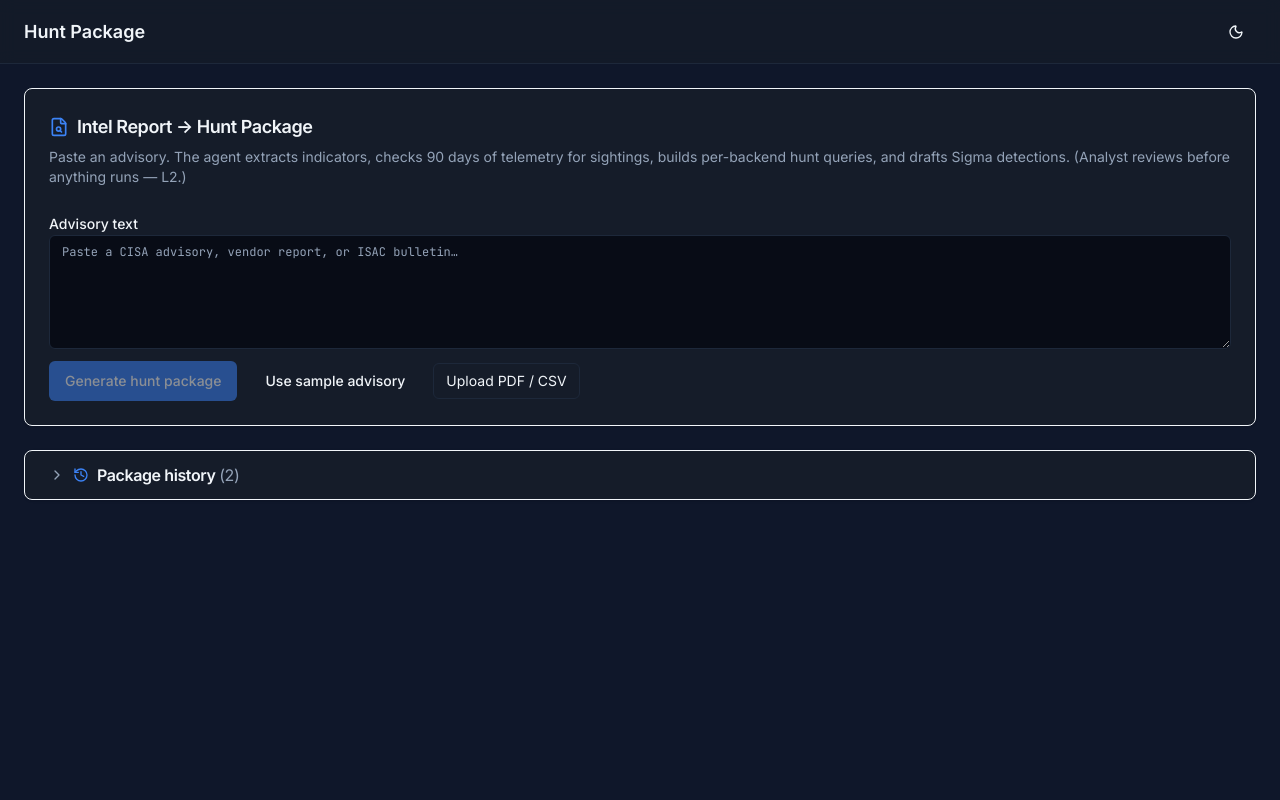
Test: HuntPackagePage promote to investigation › surfaces a promote failure without navigating
Click the button with test id "package-history-toggle" at (156, 475), box [49,463,1231,487]
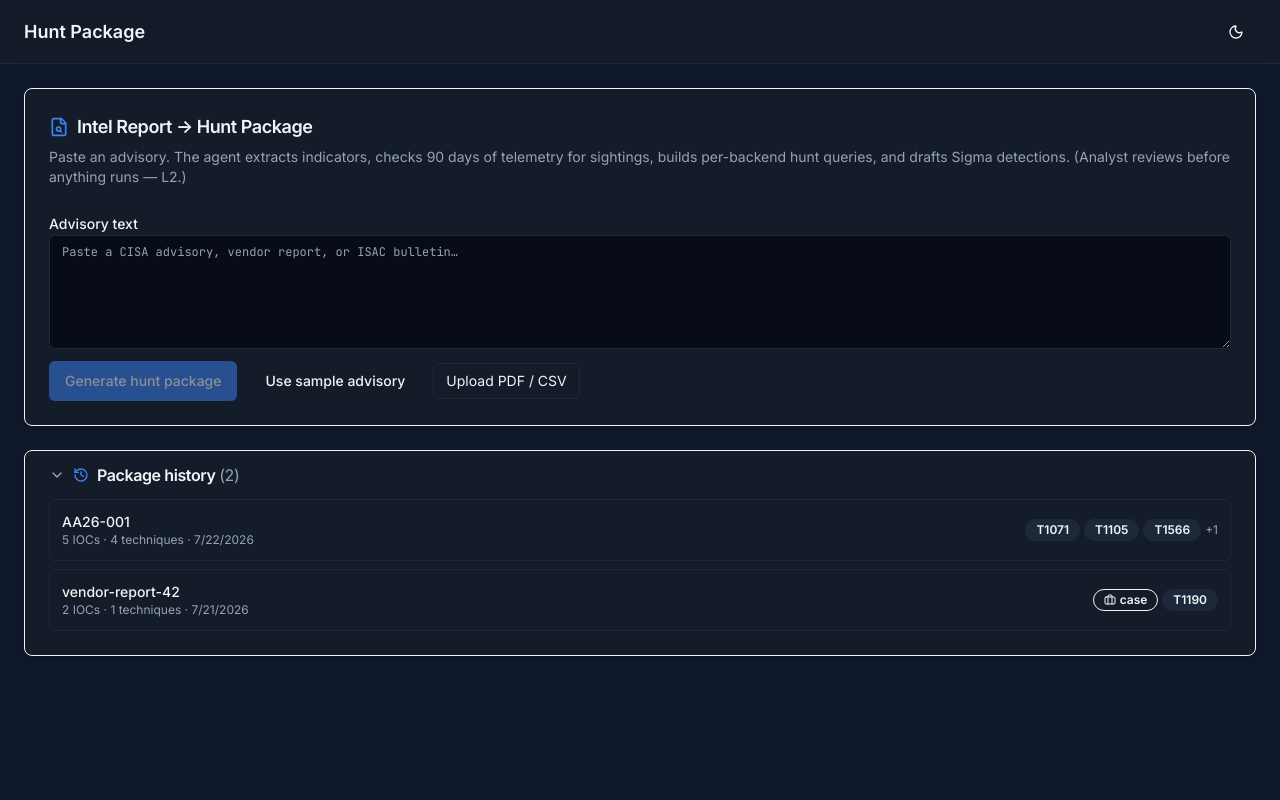
Click the button with test id "package-history-item-hpkg_A" at (96, 522), box [49,499,1231,561]
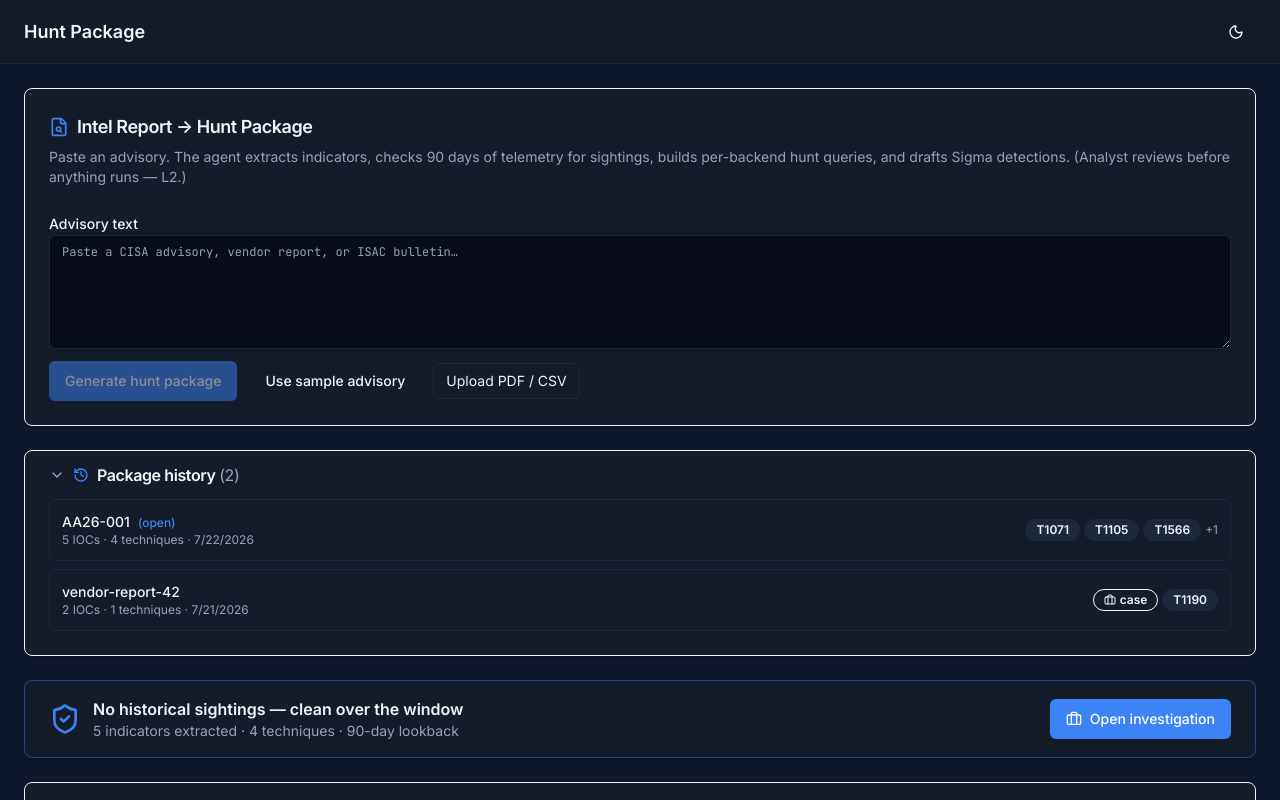
Click the button with test id "open-investigation" at (1140, 719), box [1050,699,1231,739]
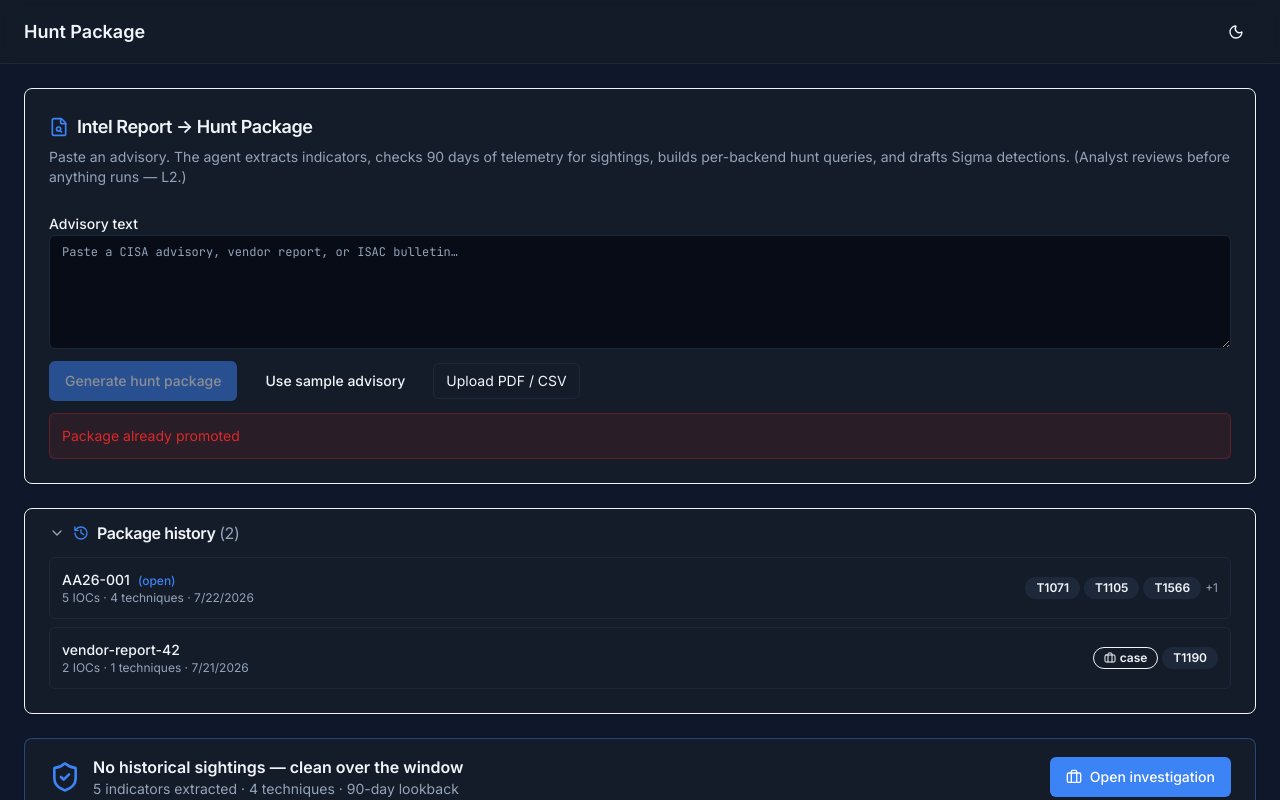
Result: the message reads "Package already promoted" at [62,427,240,444]
